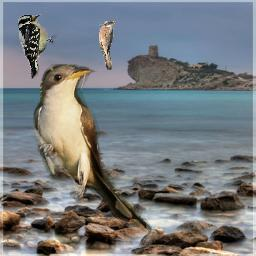Cuckoo: (33, 64, 154, 239), (99, 21, 116, 70)
Woodpecker: (17, 13, 57, 79)
